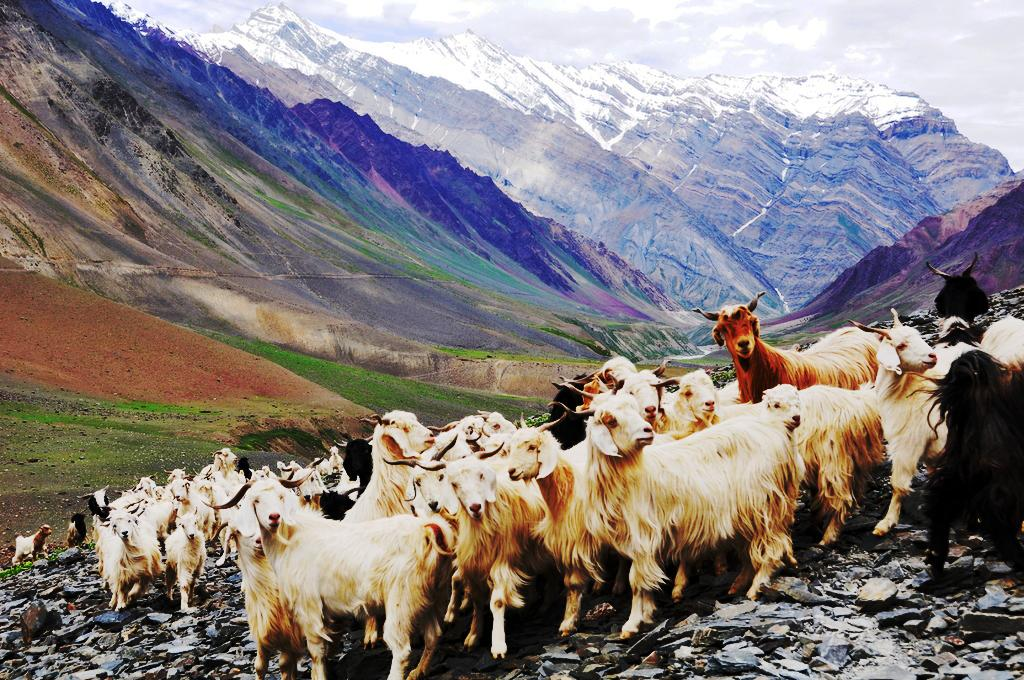Sheep: (546, 389, 802, 642), (204, 470, 452, 680), (410, 440, 616, 666), (650, 365, 888, 554), (503, 410, 680, 632), (848, 314, 1023, 538), (202, 511, 388, 680), (381, 435, 560, 582), (688, 286, 901, 401), (929, 343, 1024, 589), (698, 382, 807, 588), (332, 402, 440, 570), (923, 252, 998, 404), (603, 358, 739, 437), (326, 431, 422, 509), (91, 505, 160, 612), (163, 506, 207, 610), (454, 402, 524, 462), (78, 484, 143, 544), (166, 478, 218, 547), (288, 444, 326, 538), (190, 440, 248, 482), (9, 516, 50, 561), (136, 472, 172, 508), (324, 440, 350, 482)
